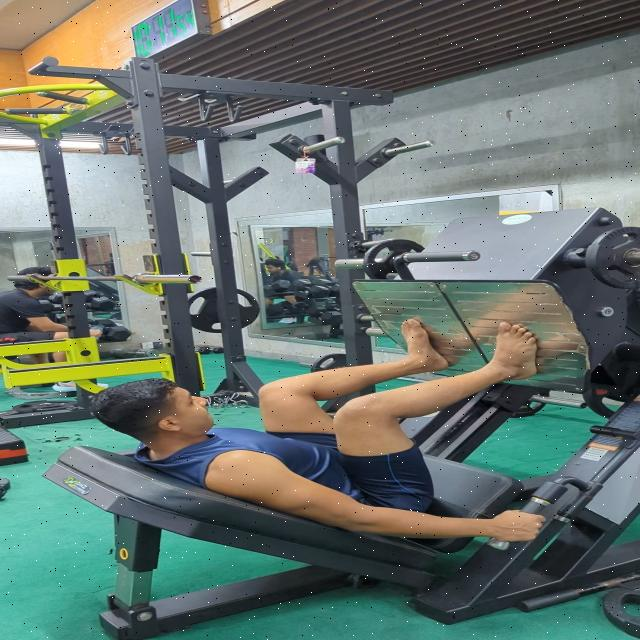Normal_LegPress: (83, 313, 566, 545)
